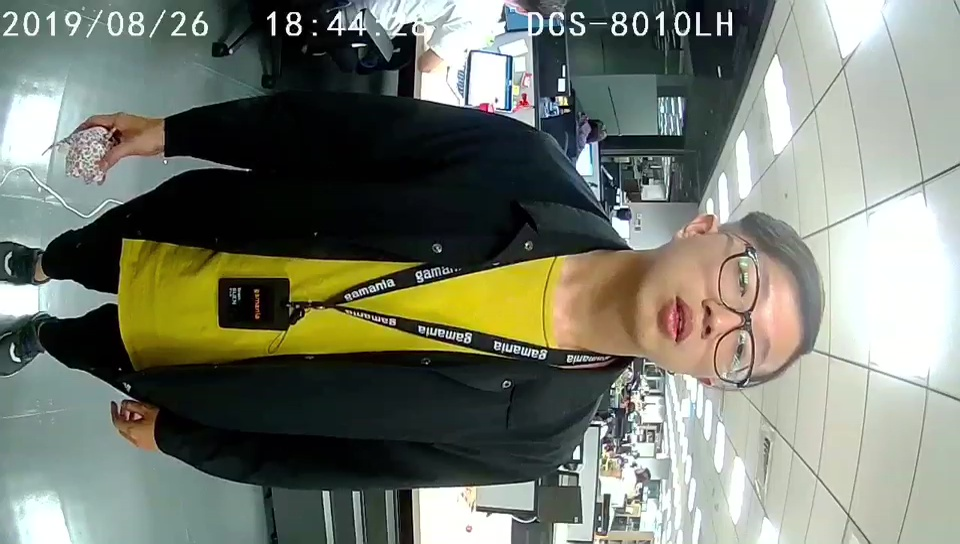pig: (64, 124, 114, 185)
